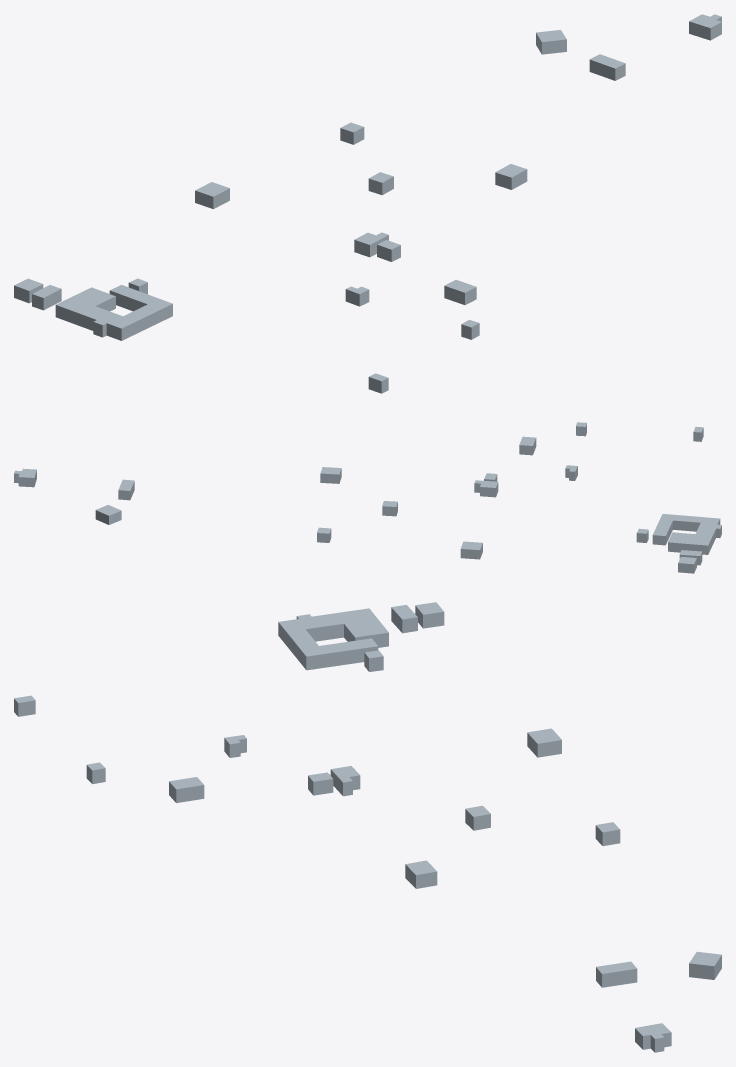
The picture shows the model from 3 angles, top to bottom: view 1: azimuth 30°, elevation 25°; view 2: azimuth 150°, elevation 25°; view 3: azimuth 270°, elevation 25°; orthographic projection. The views are drawn at different scales.
Size of what is drawn, in the model's own units: 543 by 8 by 372.
